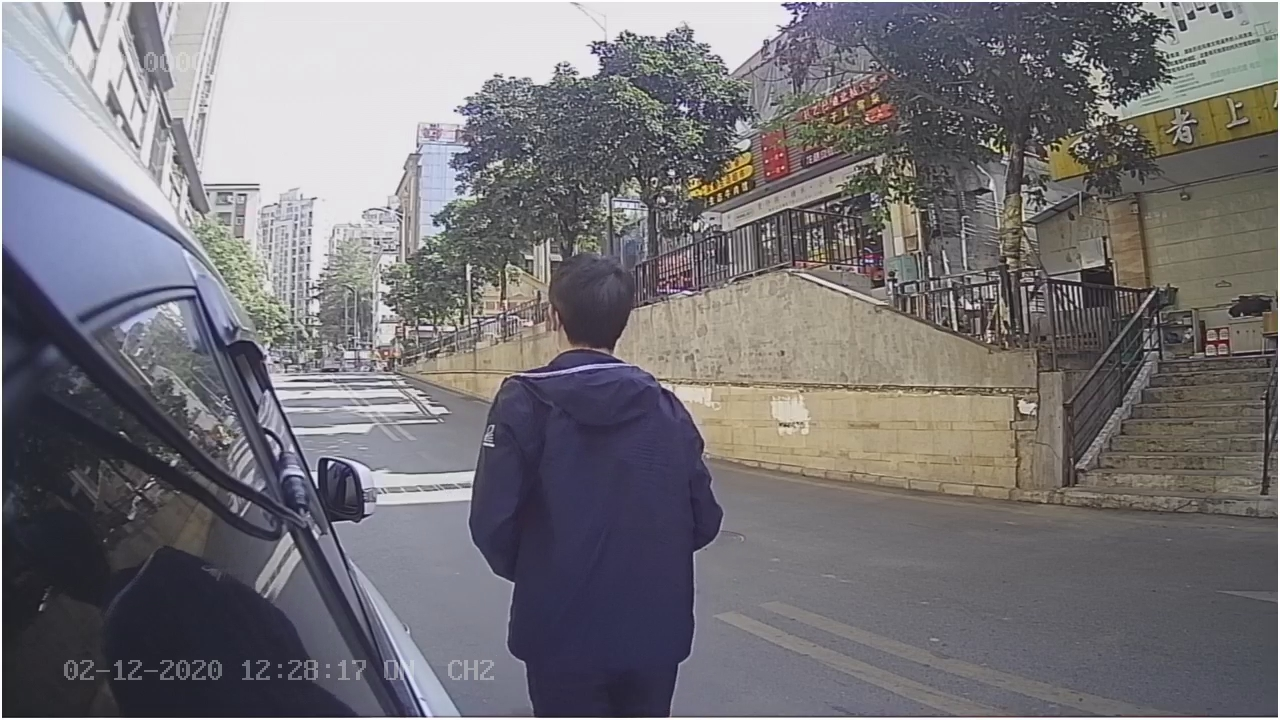person: (466, 248, 737, 584)
